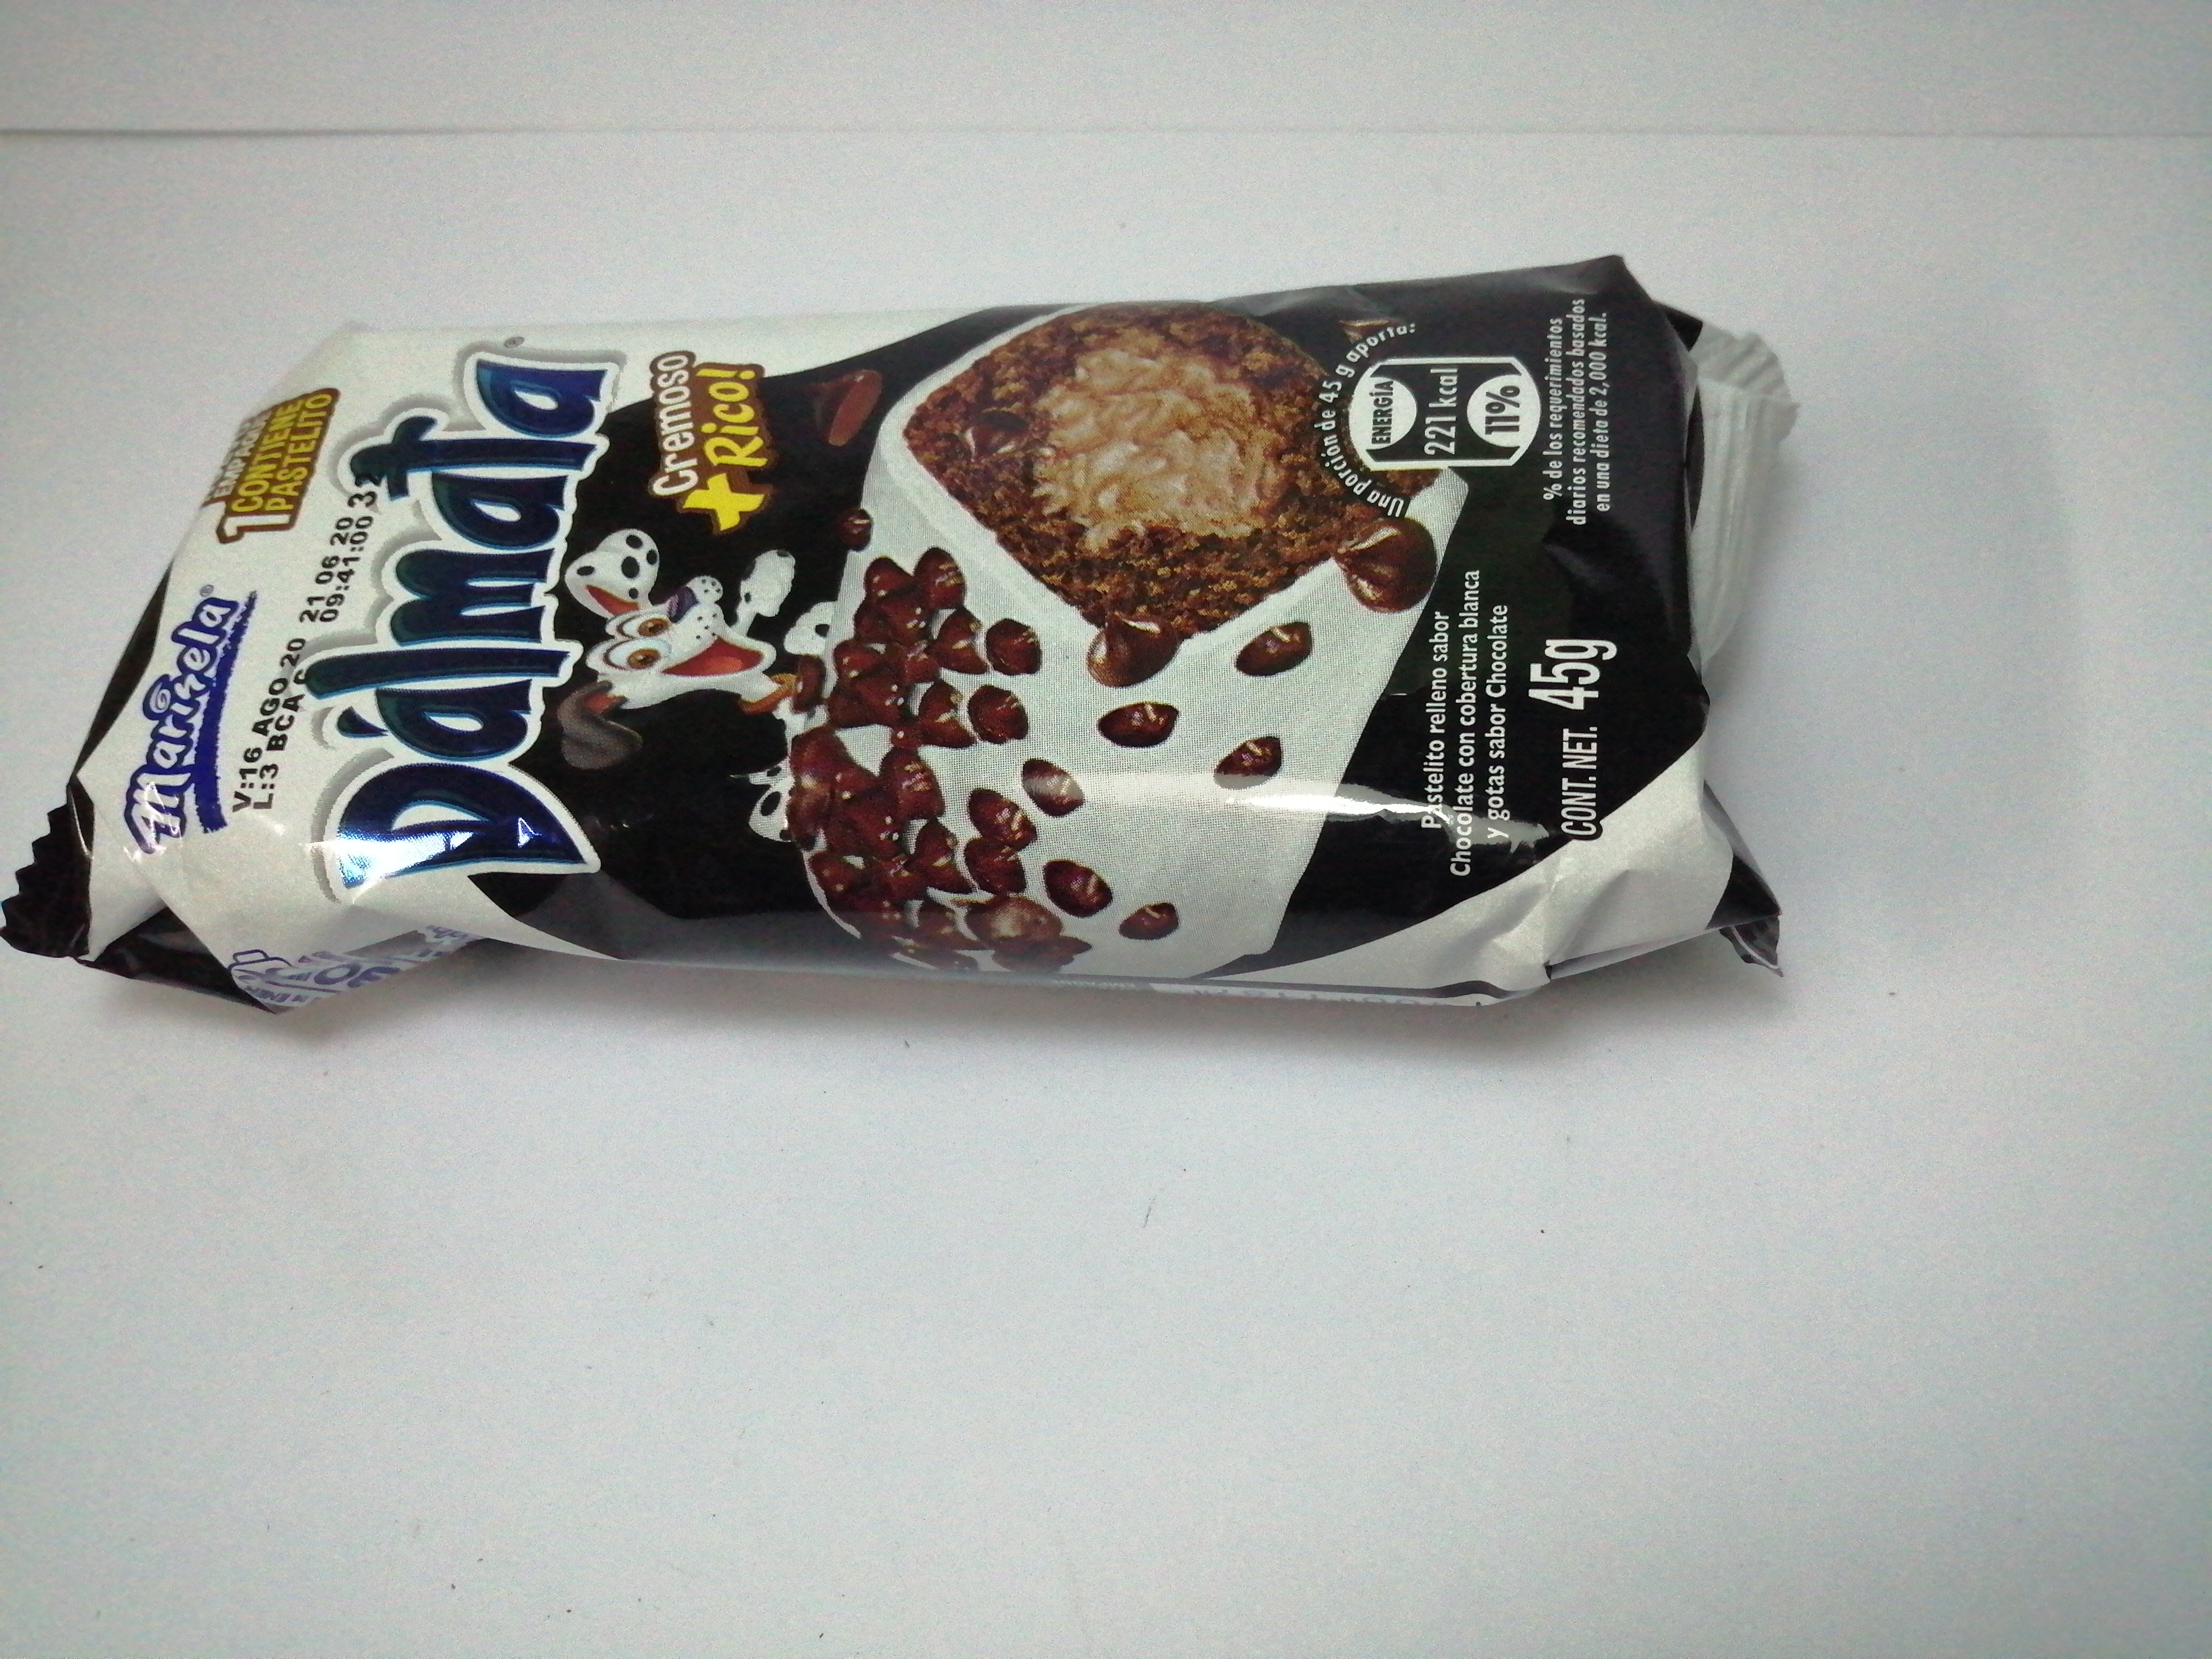dalmata: (9, 258, 1909, 1082)
